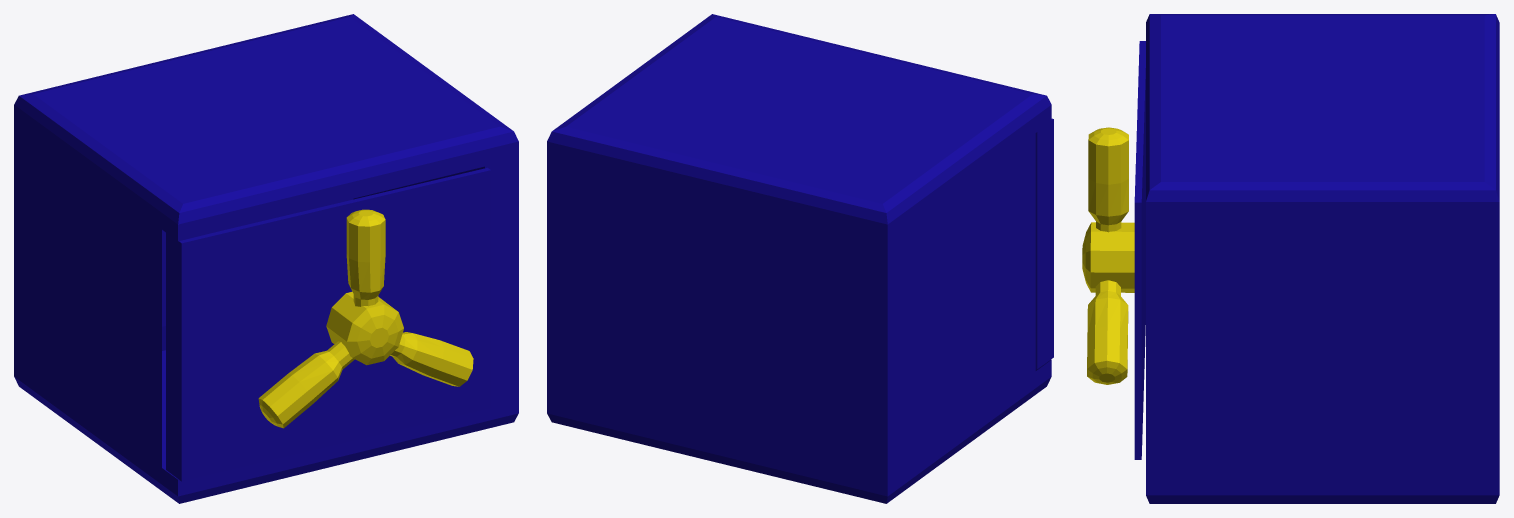
The model's file is kasa (1).FBX.
3 renders of one model, left to right at view 1: azimuth 30°, elevation 25°; view 2: azimuth 150°, elevation 25°; view 3: azimuth 270°, elevation 25°, orthographic. The views are drawn at different scales.
Visible parts, largest first — view 1: Box001, Group001, Cylinder001; view 2: Box001, Group001; view 3: Box001, Cylinder001, Group001.
Part boxes in pixels (bbox=[...]): Box001: bbox=[14, 14, 518, 503]; Group001: bbox=[166, 167, 490, 481]; Cylinder001: bbox=[258, 209, 473, 428]; Box001: bbox=[547, 14, 1051, 503]; Group001: bbox=[1035, 118, 1053, 368]; Box001: bbox=[1146, 14, 1499, 503]; Cylinder001: bbox=[1082, 127, 1134, 384]; Group001: bbox=[1134, 41, 1145, 459].
Size of the model in its own units: 60 by 50 by 58.98.
